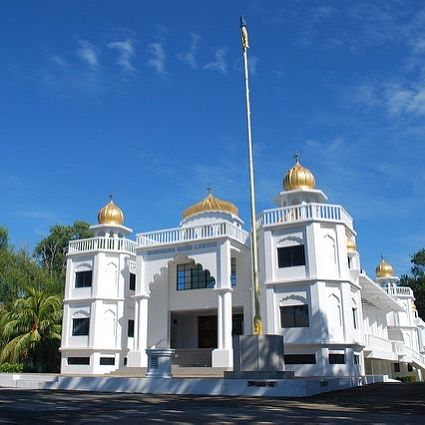Gurdwara: (66, 135, 362, 371)
